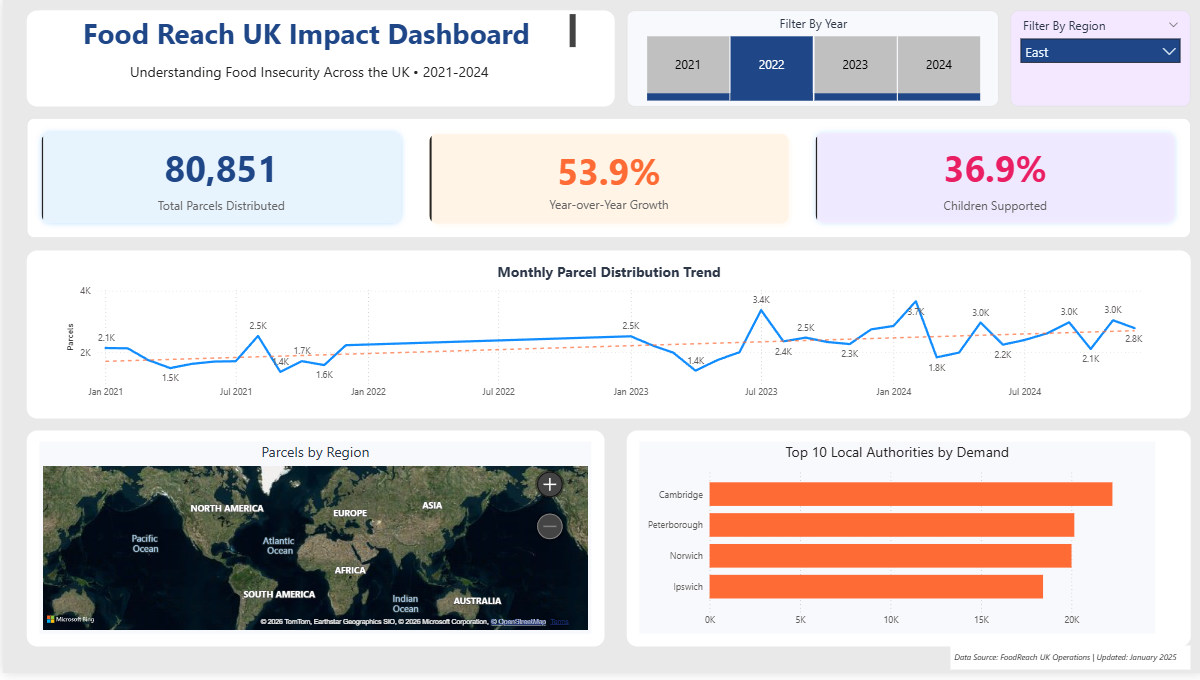

This screenshot's page, from the dashboard's own definition file:
{"tool":"powerbi","page":{"name":"Executive Overview","canvas":[1600,900],"ordinal":0},"visuals":[{"type":"shape","box":[32,576,770,288],"z":0},{"type":"shape","box":[832,576,752,288],"z":500},{"type":"shape","box":[32,320,1552,240],"z":1000},{"type":"lineChart","title":"Monthly Parcel Distribution Trend ","fields":{"Category":["Dim_Date.Date"],"Y":["_Measures.Total_Parcels"]},"box":[80,352,1456,192],"z":2000},{"type":"filledMap","title":"Parcels by Region","fields":{"Category":["Dim_Location.Region"]},"box":[48,592,736,256],"z":3000},{"type":"clusteredBarChart","title":"Top 10 Local Authorities by Demand","fields":{"Category":["Dim_Location.Local_Authority"],"Y":["_Measures.Total_Parcels"]},"box":[848,592,688,256],"z":4000},{"type":"cardVisual","fields":{"Data":["_Measures.Total_Parcels","_Measures.YoY Growth Pct","_Measures.Percentage of Children"]},"box":[32,160,1552,144],"z":5000},{"type":"slicer","fields":{"Values":["Dim_Location.Region"]},"box":[1344,16,240,128],"z":6000},{"type":"slicer","title":"Filter By Year","fields":{"Values":["Dim_Date.Year"]},"box":[832,16,496,128],"z":7000},{"type":"textbox","box":[1264,864,320,32],"z":8000},{"type":"shape","box":[32,16,784,128],"z":9000},{"type":"textbox","box":[48,16,720,64],"z":10000},{"type":"textbox","box":[48,80,720,48],"z":11000}]}

Visuals, with their boxes in screenshot pixels (x1, y1, x2, y2), scaled from the page's 1600x900 canvas onto the 1200x680 screenshot:
shape: <box>24,435,602,653</box>
shape: <box>624,435,1188,653</box>
shape: <box>24,242,1188,423</box>
"Monthly Parcel Distribution Trend " lineChart: <box>60,266,1152,411</box>
"Parcels by Region" filledMap: <box>36,447,588,641</box>
"Top 10 Local Authorities by Demand" clusteredBarChart: <box>636,447,1152,641</box>
cardVisual - _Measures.Total_Parcels x _Measures.YoY Growth Pct: <box>24,121,1188,230</box>
slicer - Dim_Location.Region: <box>1008,12,1188,109</box>
"Filter By Year" slicer: <box>624,12,996,109</box>
textbox: <box>948,653,1188,677</box>
shape: <box>24,12,612,109</box>
textbox: <box>36,12,576,60</box>
textbox: <box>36,60,576,97</box>
